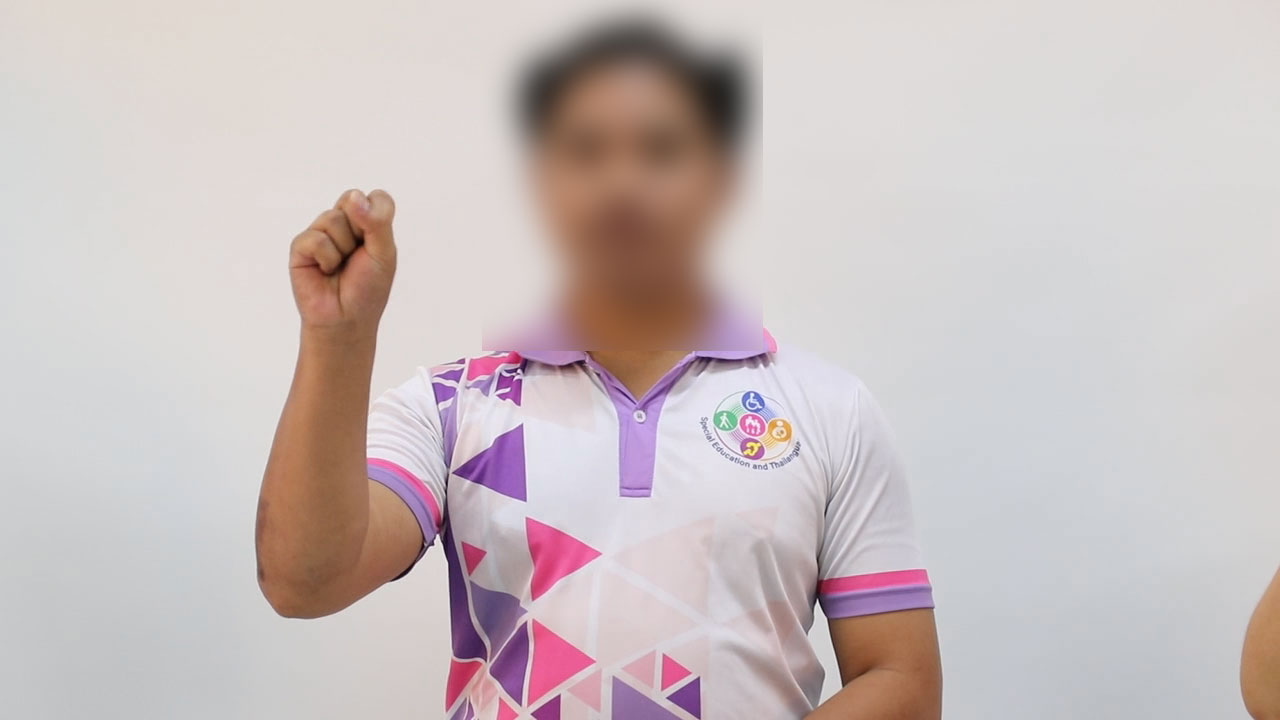sor: (270, 176, 419, 338)
